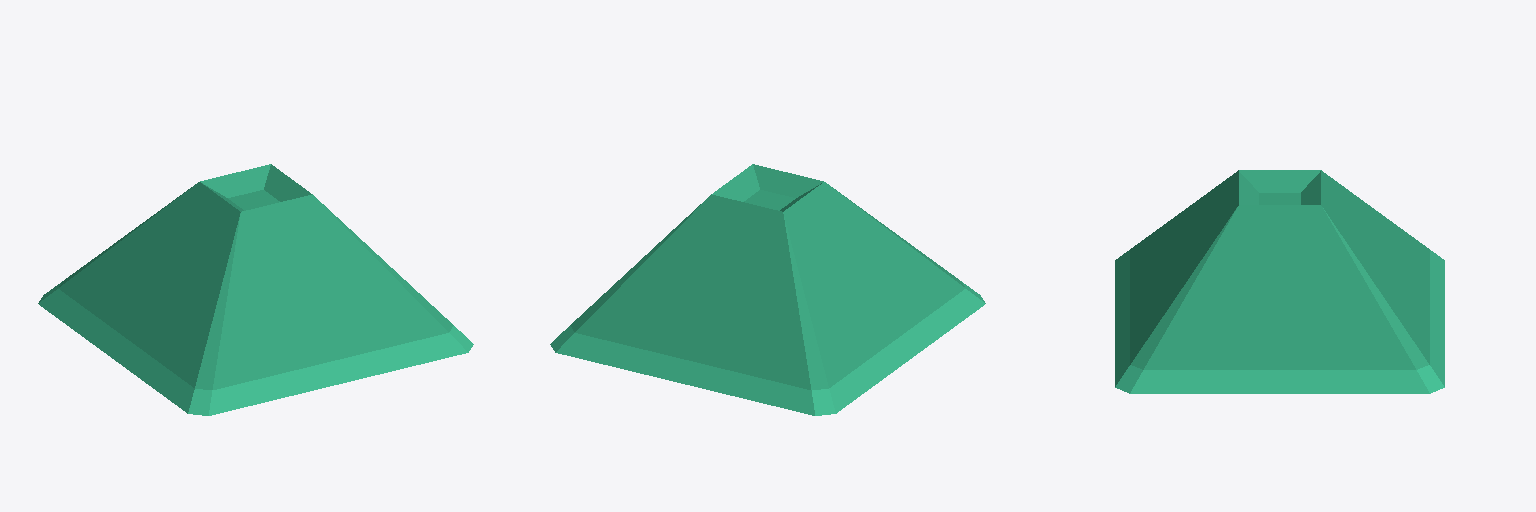
Rendered from roofPoint.obj.
3 views of the same model, side by side, from view 1: azimuth 30°, elevation 25°; view 2: azimuth 150°, elevation 25°; view 3: azimuth 270°, elevation 25° (orthographic).
Visible parts, largest first — view 1: roofPoint; view 2: roofPoint; view 3: roofPoint.
Boxes of the visible parts, box(x1,y1,x2,y2) form: roofPoint: box(38, 164, 473, 415); roofPoint: box(550, 164, 985, 415); roofPoint: box(1115, 170, 1444, 393).
Size of the model in its own units: 1.1 by 0.5 by 1.1.